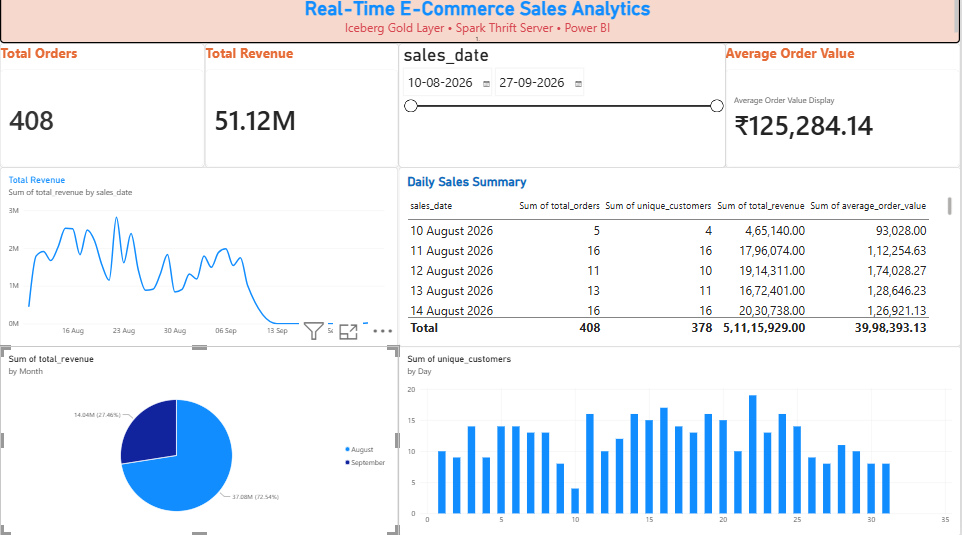

What the dashboard file says about the page in this screenshot:
{"tool":"powerbi","page":{"name":"Page 1","canvas":[1920,1080],"ordinal":0},"visuals":[{"type":"clusteredColumnChart","fields":{"Category":["daily_sales_powerbi.sales_date.Variation.Date Hierarchy.Day"],"Y":["Sum(daily_sales_powerbi.unique_customers)"]},"box":[796.3,700.3,1123.8,380],"z":0},{"type":"cardVisual","title":"Total Revenue","fields":{"Data":["Sum(daily_sales_powerbi.total_revenue)"]},"box":[409,94.1,387.3,247.9],"z":1},{"type":"pieChart","fields":{"Category":["daily_sales_powerbi.sales_date.Variation.Date Hierarchy.Month"],"Y":["Sum(daily_sales_powerbi.total_revenue)"]},"box":[0,700.3,796.3,380],"z":2},{"type":"lineChart","title":"Total Revenue","fields":{"Category":["daily_sales_powerbi.sales_date"],"Y":["Sum(daily_sales_powerbi.total_revenue)"]},"box":[0,342,796.3,358.3],"z":3},{"type":"cardVisual","title":"Total Orders","fields":{"Data":["Sum(daily_sales_powerbi.total_orders)"]},"box":[0,94.1,409,247.9],"z":5},{"type":"cardVisual","title":"Average Order Value","fields":{"Data":["daily_sales_powerbi.Average Order Value Display"]},"box":[1449.5,94.1,470.5,247.9],"z":6},{"type":"slicer","fields":{"Values":["daily_sales_powerbi.sales_date"]},"box":[796.3,94.1,653.3,247.9],"z":8},{"type":"tableEx","title":"Daily Sales Summary","fields":{"Values":["daily_sales_powerbi.sales_date","Sum(daily_sales_powerbi.total_orders)","Sum(daily_sales_powerbi.unique_customers)","Sum(daily_sales_powerbi.total_revenue)","Sum(daily_sales_powerbi.average_order_value)"]},"box":[796.3,342,1123.8,358.3],"z":9},{"type":"textbox","box":[0,0,1920.1,94.1],"z":10}]}

Visuals, with their boxes in screenshot pixels (x1, y1, x2, y2), scaled from the page's 1920x1080 canvas onto the 962x535 screenshot:
clusteredColumnChart - daily_sales_powerbi.sales_date.Variation.Date Hierarchy.Day x Sum(daily_sales_powerbi.unique_customers): <region>399, 347, 961, 534</region>
"Total Revenue" cardVisual: <region>205, 47, 399, 169</region>
pieChart - daily_sales_powerbi.sales_date.Variation.Date Hierarchy.Month x Sum(daily_sales_powerbi.total_revenue): <region>0, 347, 399, 534</region>
"Total Revenue" lineChart: <region>0, 169, 399, 347</region>
"Total Orders" cardVisual: <region>0, 47, 205, 169</region>
"Average Order Value" cardVisual: <region>726, 47, 961, 169</region>
slicer - daily_sales_powerbi.sales_date: <region>399, 47, 726, 169</region>
"Daily Sales Summary" tableEx: <region>399, 169, 961, 347</region>
textbox: <region>0, 0, 961, 47</region>
